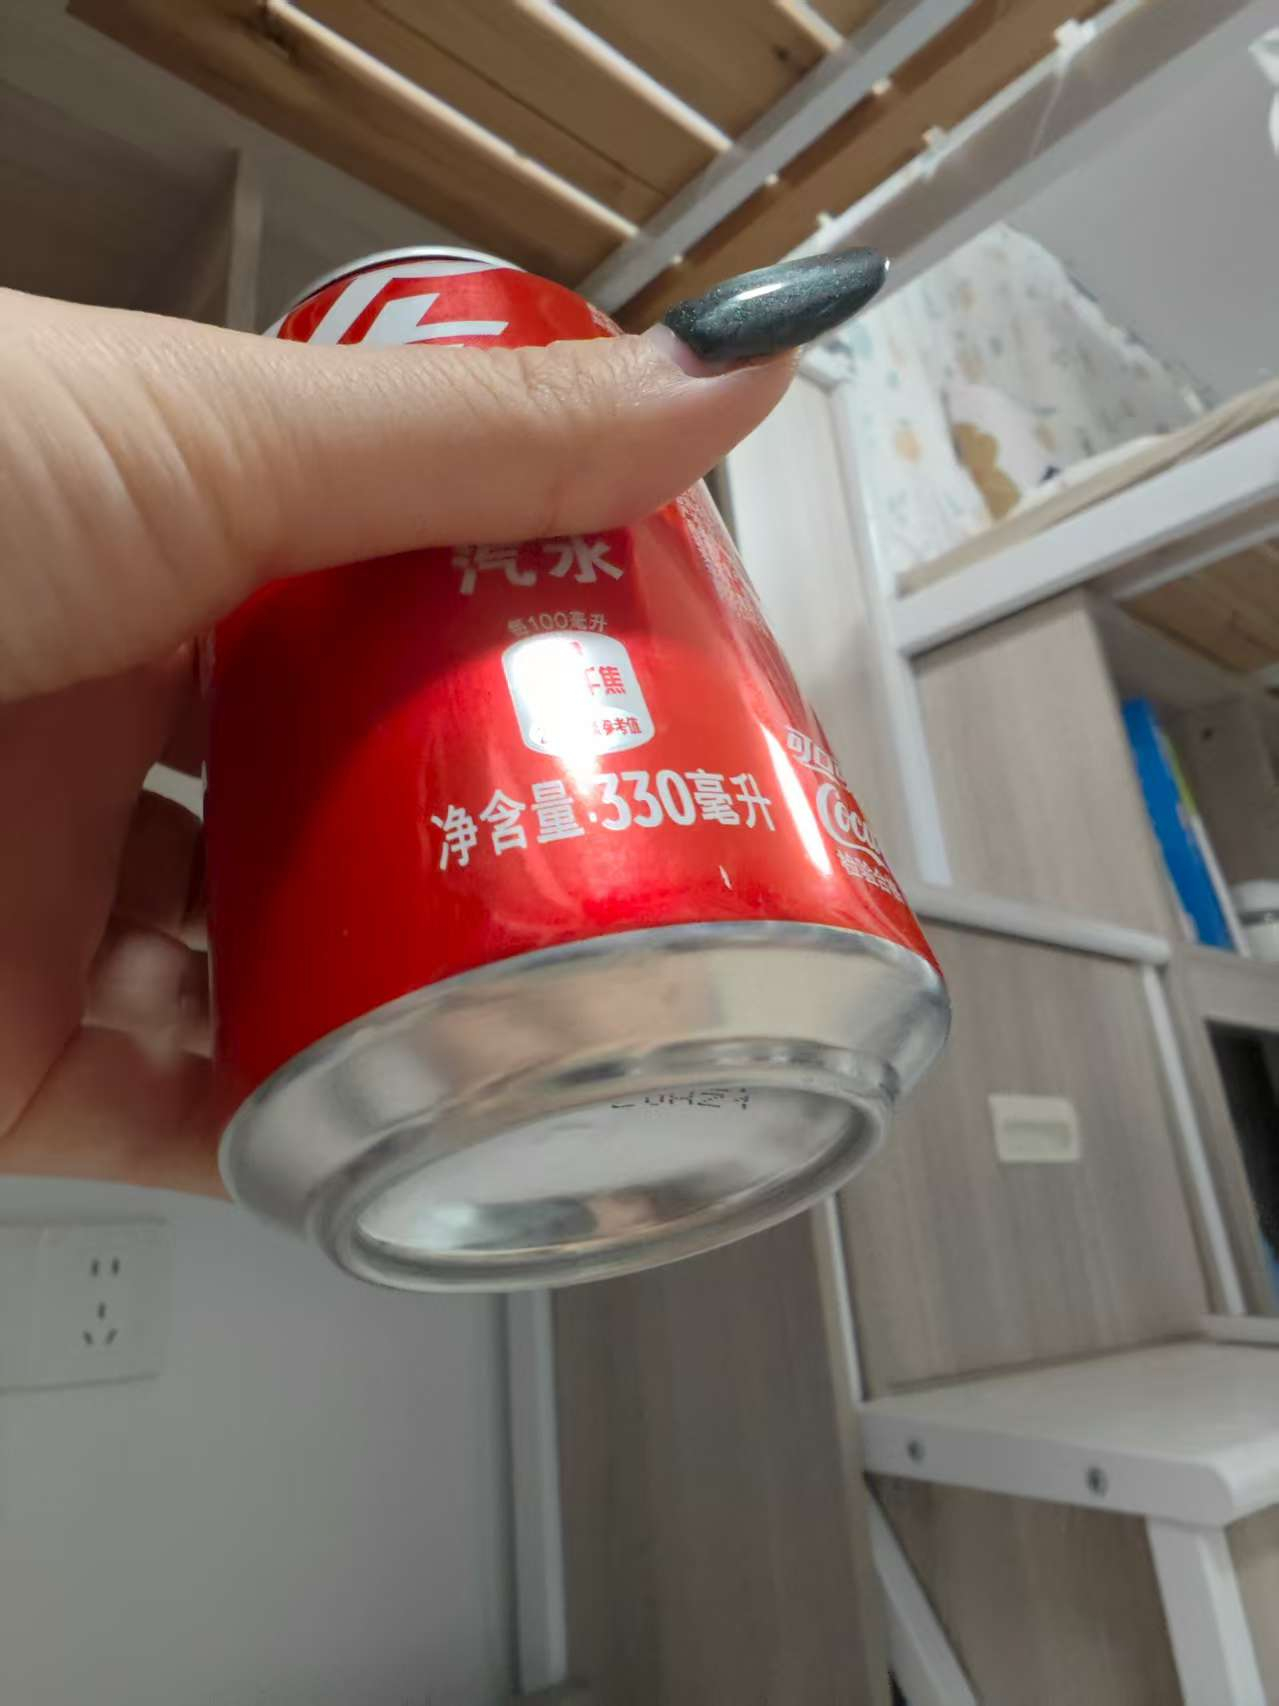可乐: (179, 235, 966, 1306)
